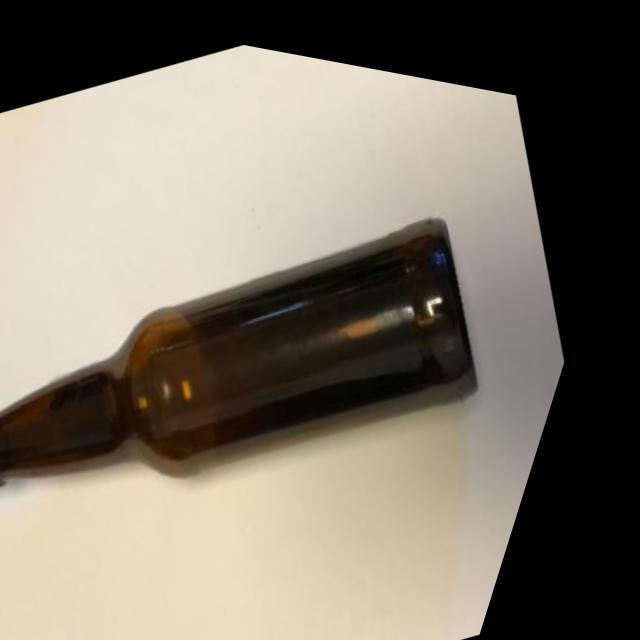glass: (0, 36, 618, 640)
